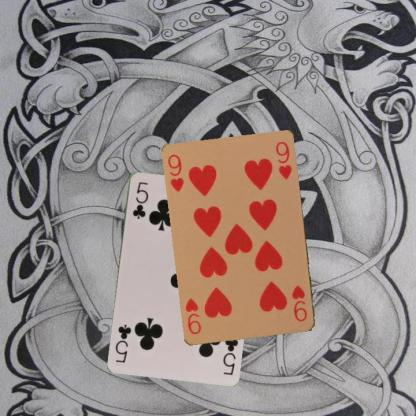5c: (129, 179, 150, 220), (220, 334, 239, 376)
9h: (166, 152, 186, 194), (290, 282, 308, 324)
